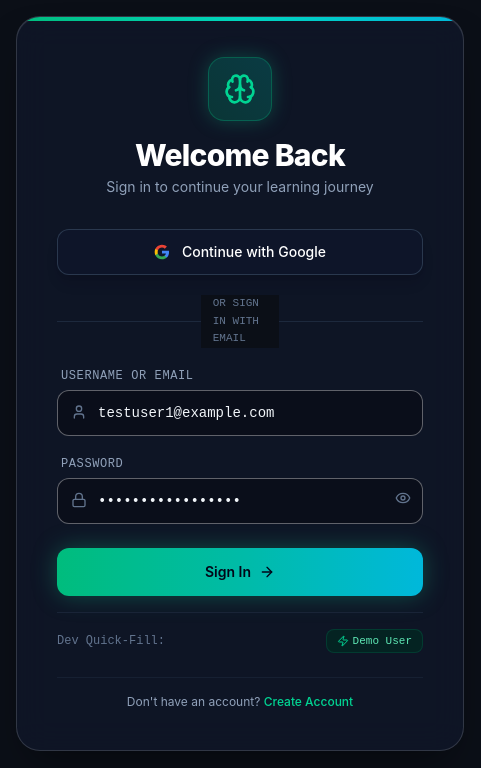
Test case: API client migrated authentication callers › retains the login lockout response for HTTP 429
What coordinates should you click on to do the following:
click the button "Sign In"
I would click on:
 (240, 572)
Its box is [57, 548, 423, 596].
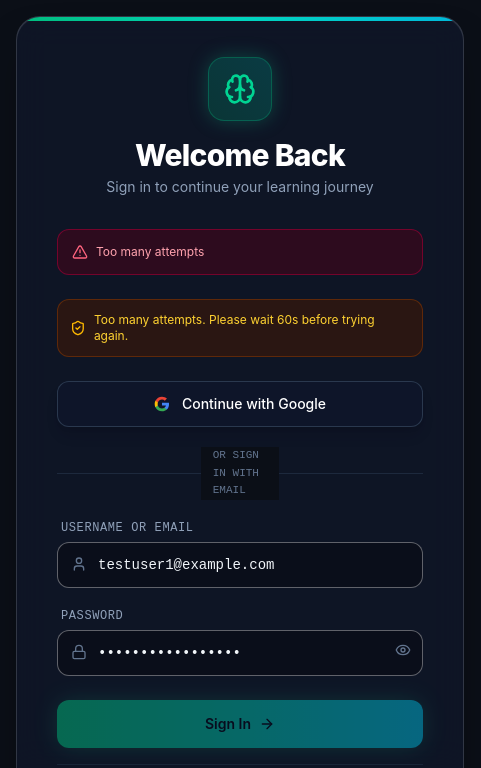
Now the text "Too many attempts" is shown, box [96, 244, 204, 260]
Now the button "Sign In" is disabled, box [57, 700, 423, 748]
